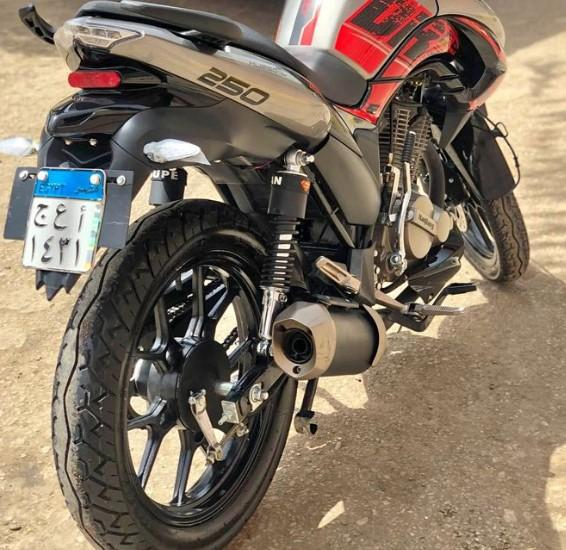License Plate: (20, 167, 113, 274)
